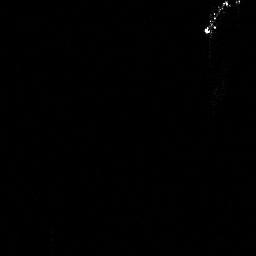ship: (203, 1, 243, 37)
